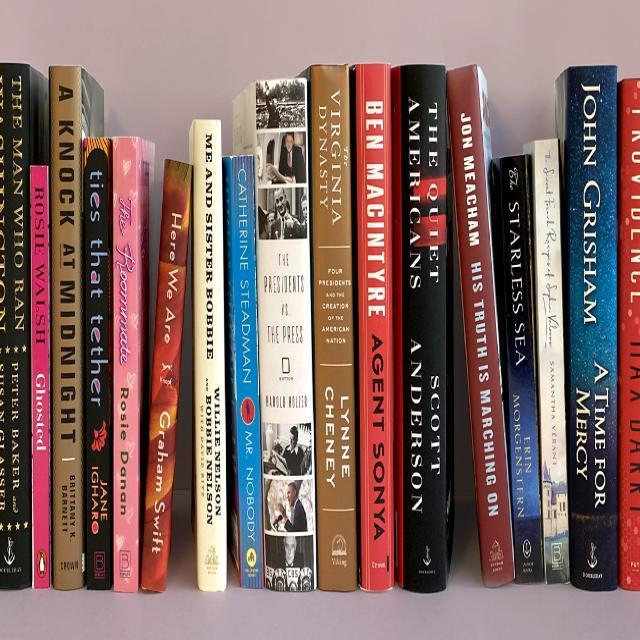book: (448, 63, 515, 587), (256, 79, 315, 591), (566, 64, 619, 590), (399, 68, 445, 592), (312, 65, 357, 591), (492, 153, 544, 582), (142, 158, 191, 592), (357, 63, 397, 592), (0, 62, 33, 588), (532, 138, 570, 585), (52, 67, 83, 588), (230, 156, 264, 589), (195, 120, 226, 591), (112, 137, 141, 591), (83, 138, 111, 588), (29, 165, 50, 588)
